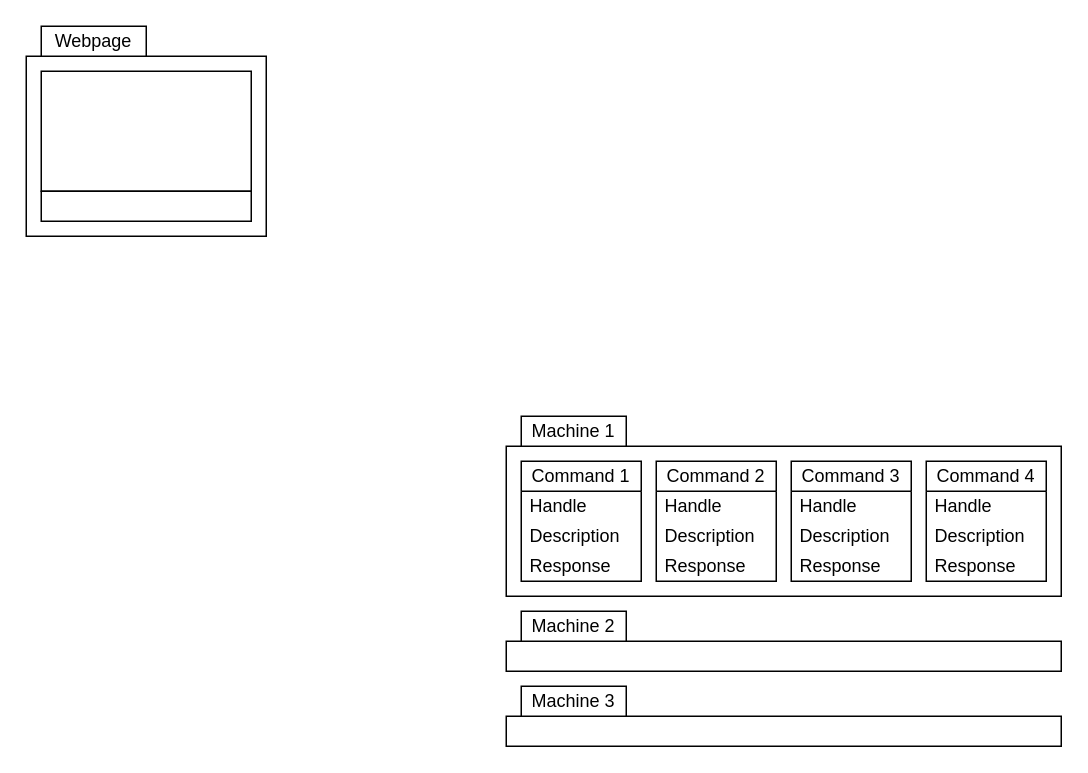
The diagram is 1088 pixels wide and 773 high, and some of its shapes have lost their labels. The shapes that lost their labels are listed below. From the top down, each one's centre as x and y in pixels, then its label:
the point at 145,130: console view
the point at 145,205: console input
